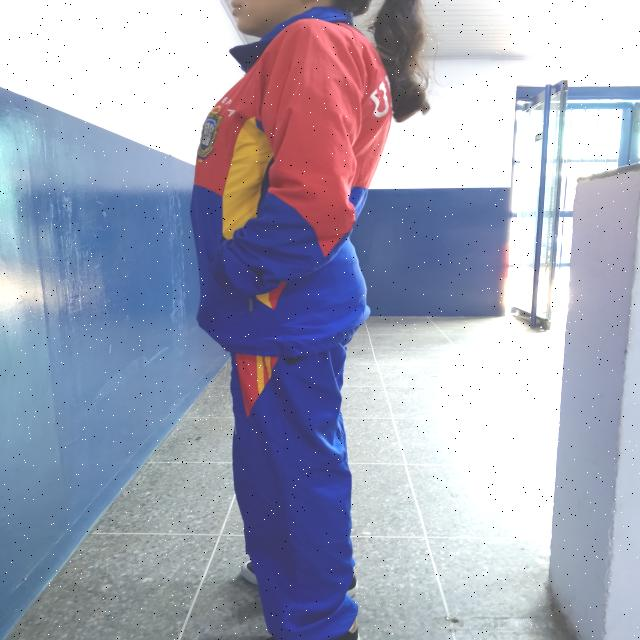chaqueta_unefa: (188, 5, 394, 356)
